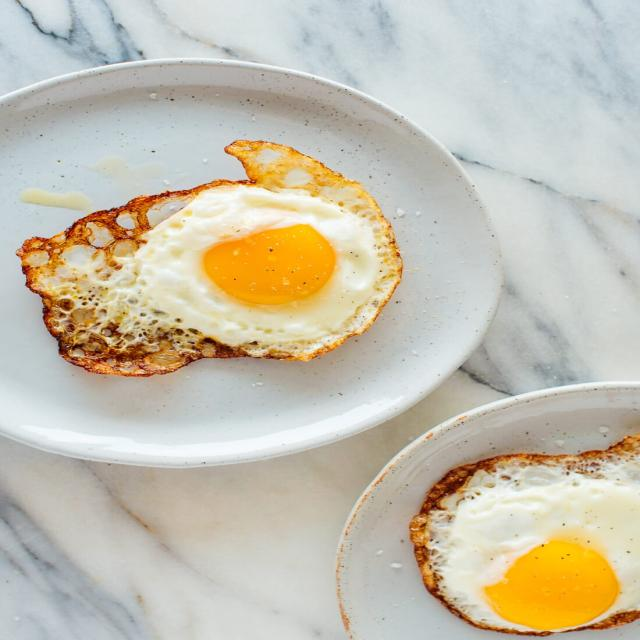Egg: (17, 140, 403, 376), (410, 435, 639, 635)
